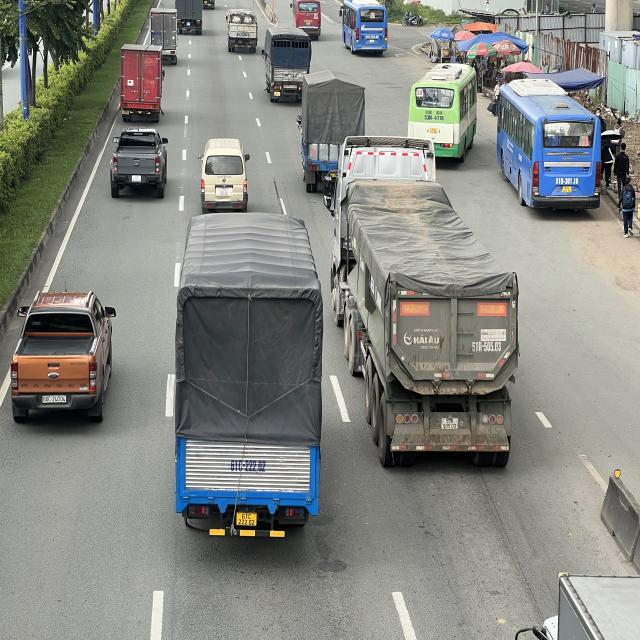car: (11, 292, 115, 424), (108, 129, 168, 198)
coach: (491, 75, 602, 212), (406, 62, 480, 163), (339, 0, 389, 54), (291, 0, 322, 40)
container: (331, 135, 518, 461)
truck: (174, 211, 322, 531), (298, 77, 367, 196), (263, 28, 313, 102), (120, 45, 166, 123), (148, 6, 178, 62), (227, 10, 259, 52), (176, 0, 205, 37)
van: (200, 139, 250, 213)
